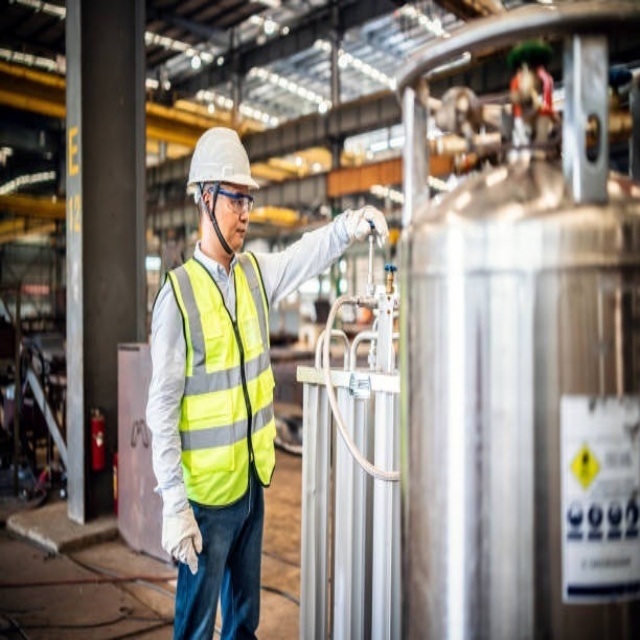Gafas: (207, 186, 254, 215)
Guantes: (161, 502, 201, 573), (341, 205, 388, 246)
Sin_mascara: (226, 220, 252, 243)
